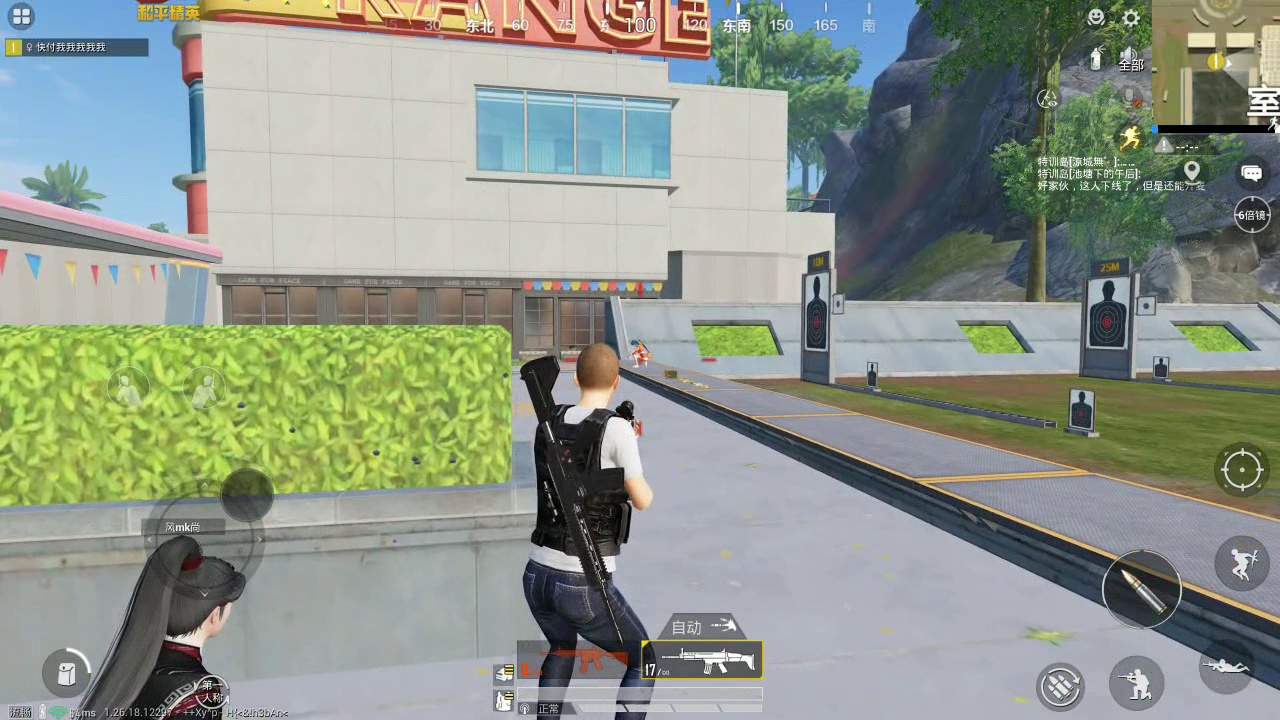enemy: (80, 535, 228, 720), (627, 336, 654, 369)
